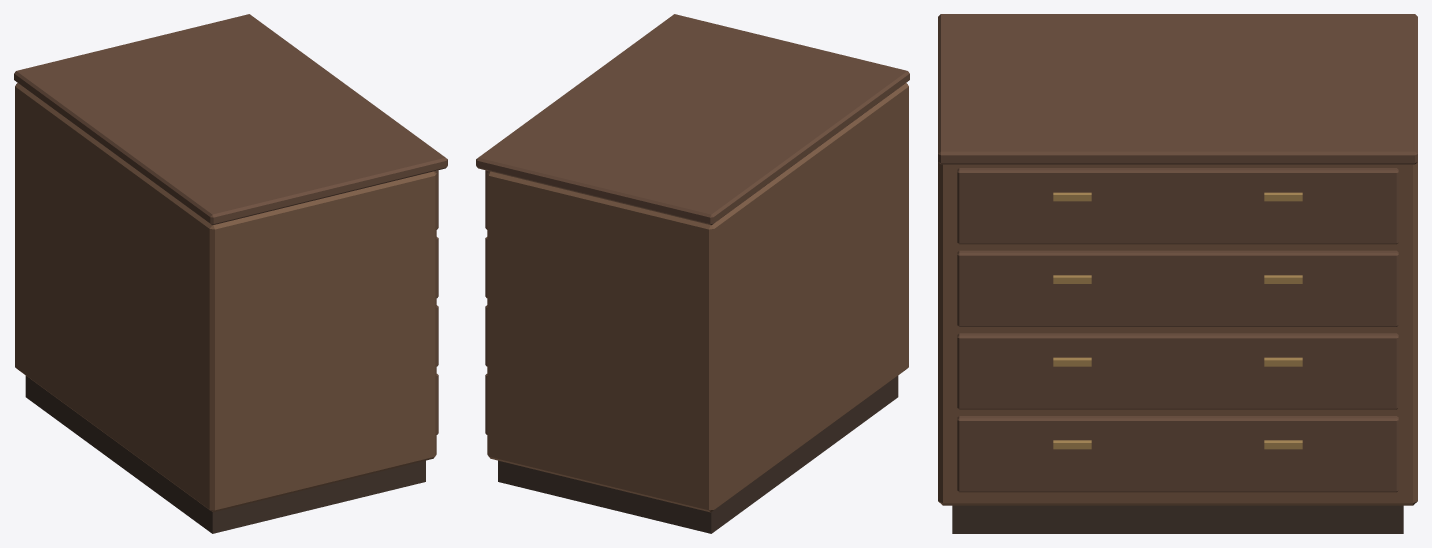
File: drawer_chest.glb
3 views of the same model, side by side, from view 1: azimuth 30°, elevation 25°; view 2: azimuth 150°, elevation 25°; view 3: azimuth 270°, elevation 25° (orthographic). The views are drawn at different scales.
Visible parts, largest first — view 1: drawer_chest; view 2: drawer_chest; view 3: drawer_chest.
Boxes of the visible parts, x1,y1,x2,y2 form: drawer_chest: [14, 14, 447, 533]; drawer_chest: [476, 14, 909, 533]; drawer_chest: [938, 14, 1417, 533].
Size of the model in its own units: 0.7 by 0.9 by 1.
